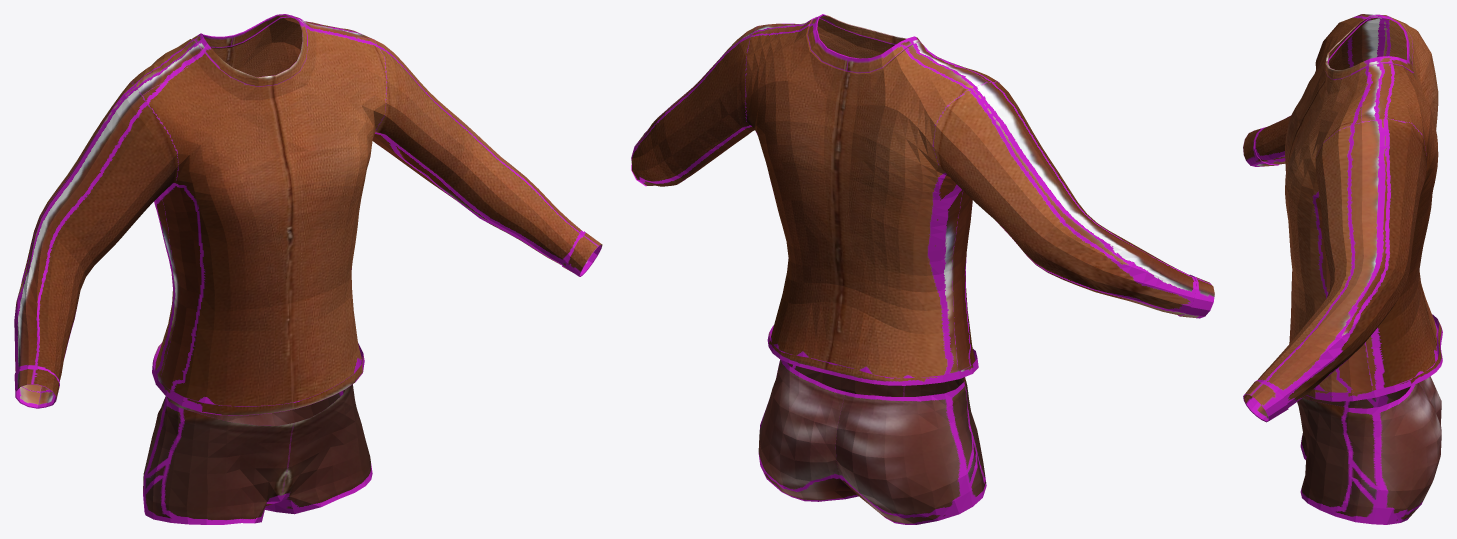
3 renders of one model, left to right at view 1: azimuth 30°, elevation 25°; view 2: azimuth 150°, elevation 25°; view 3: azimuth 270°, elevation 25°, orthographic. The views are drawn at different scales.
Bounding box in the file's own units: 1.15 × 0.898 × 0.3562.
1 material, 1 textured.
